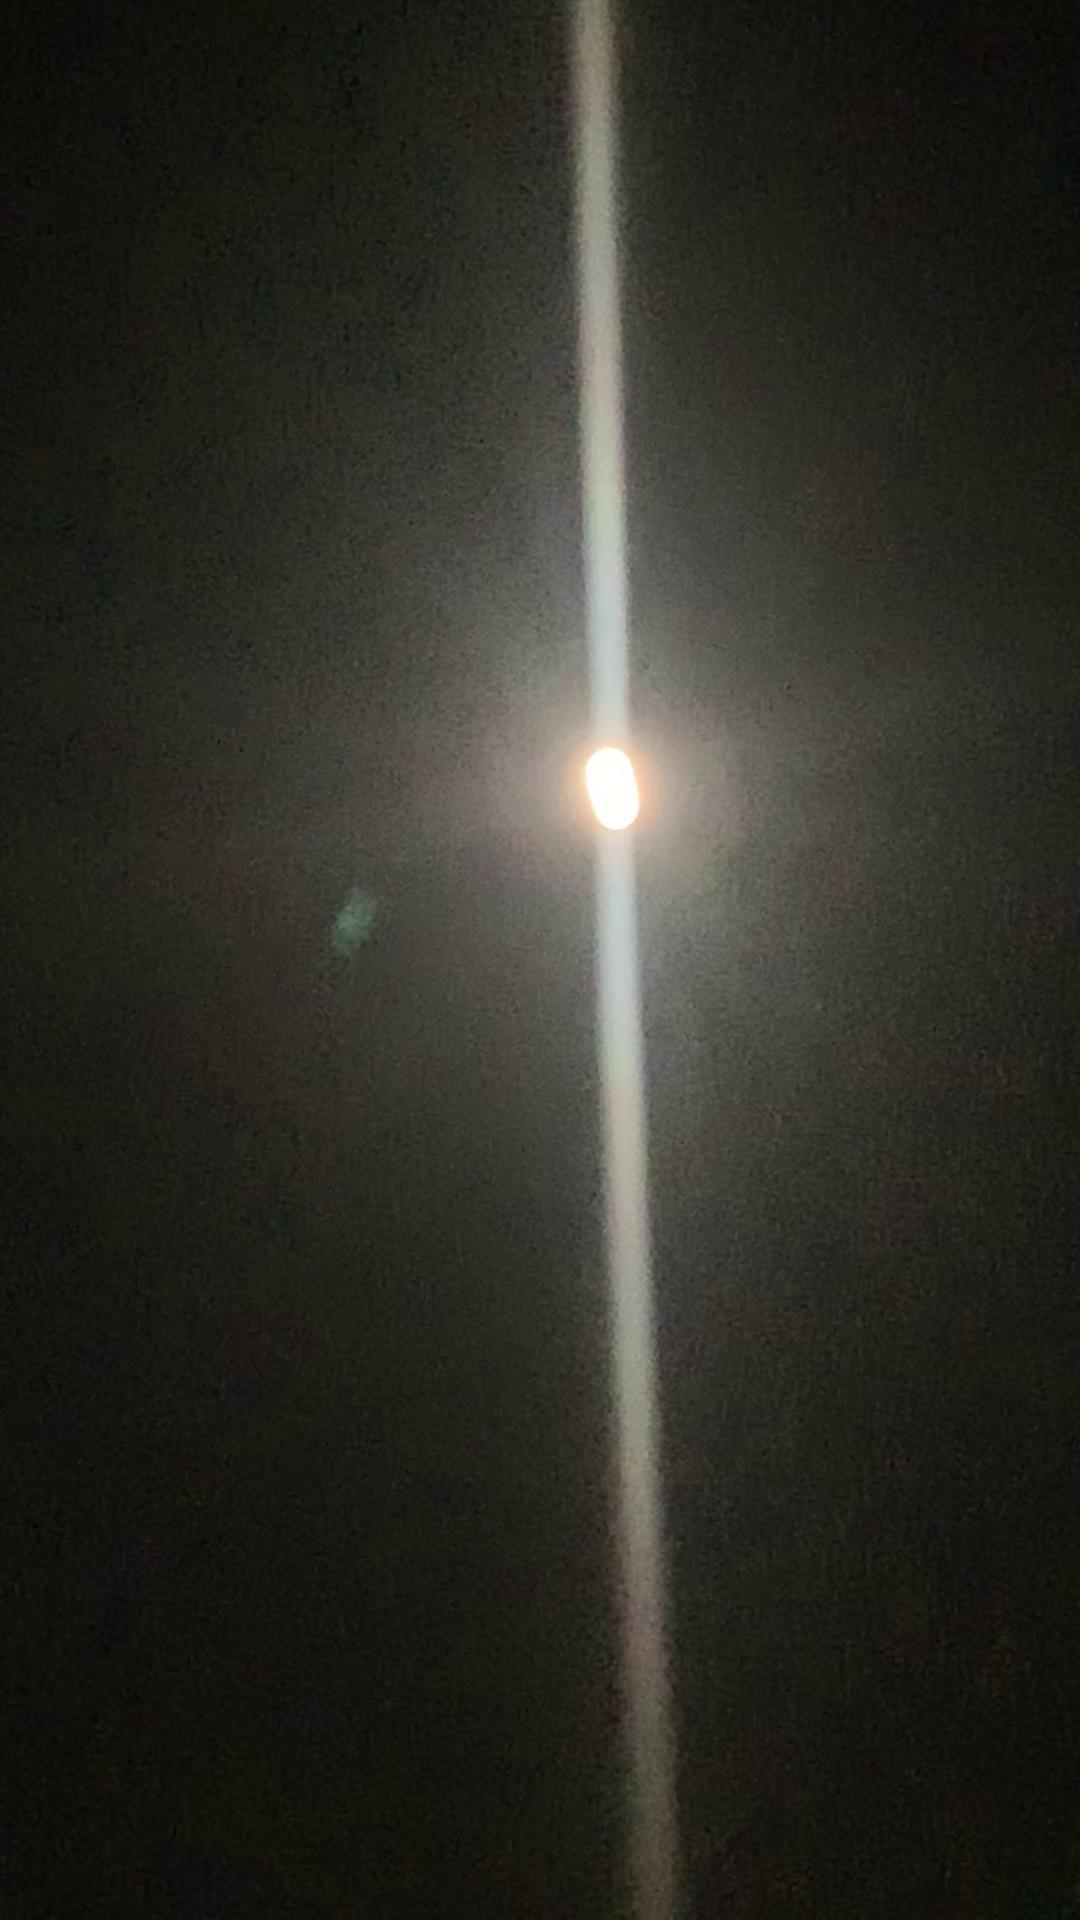moon: (567, 729, 669, 832)
